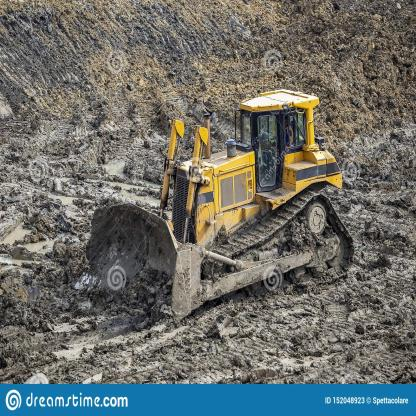bull_dozer/loader/grader: (80, 83, 366, 328)
